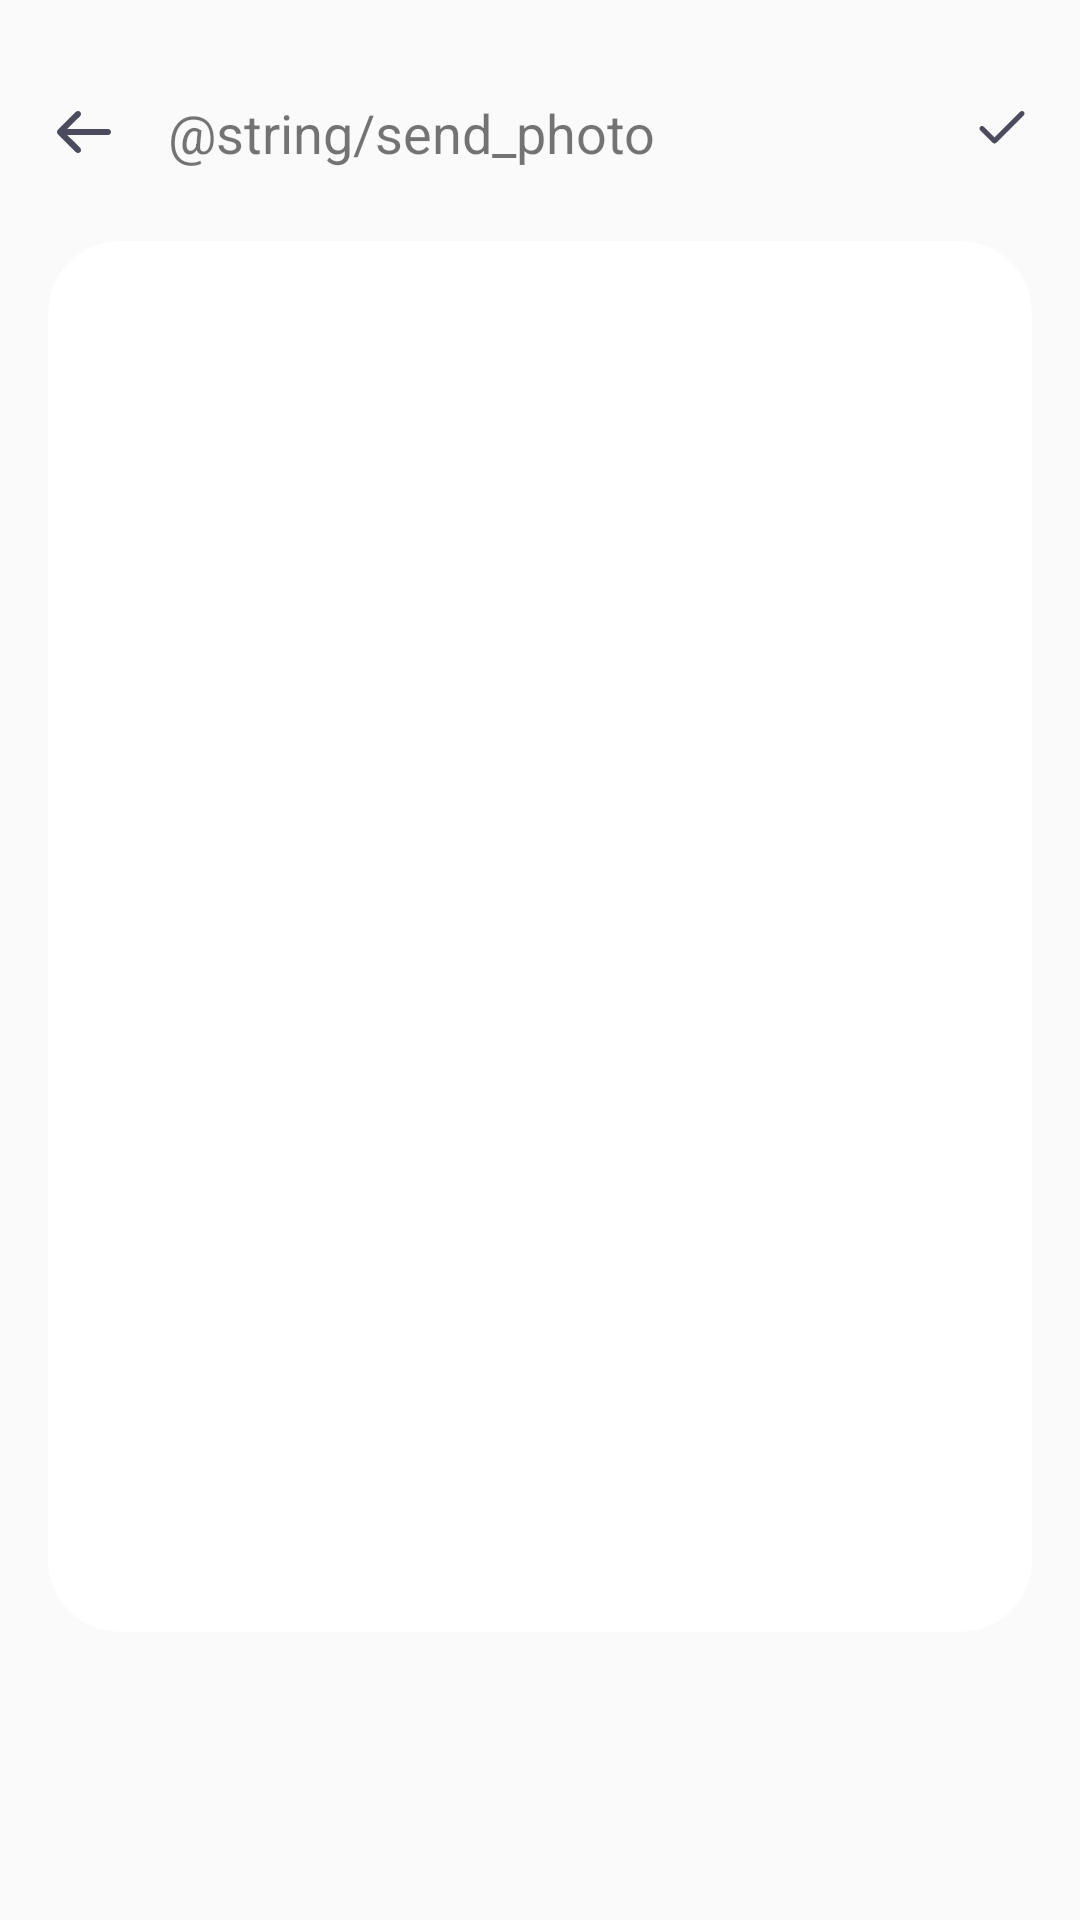

Named icons in this screenshot (1080x1920) and their bounding boxes, detection(x1, y1, x2, y2):
back: detection(57, 111, 111, 153)
checkmark: detection(979, 111, 1025, 144)
